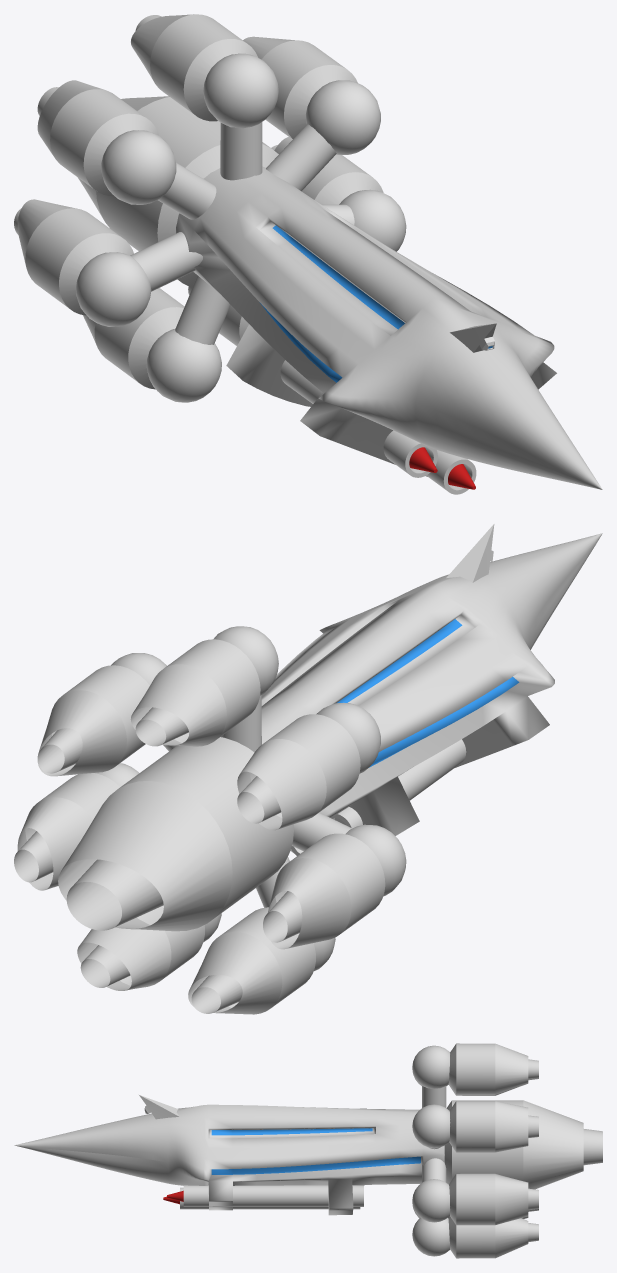
File: interceptor.fbx
3 views of the same model, one above another, from view 1: azimuth 30°, elevation 25°; view 2: azimuth 150°, elevation 25°; view 3: azimuth 270°, elevation 25° (orthographic). The views are drawn at different scales.
Parts seen in each view (by area): view 1: body, big_engine, Tube_1_2, Tube_7, Tube_2_2, Tube_6, Sphere_1, Sphere_7, Sphere_2, Sphere_6, Sphere_3, Tube_3 (+11 smaller); view 2: body, big_engine, Tube_1_2, Tube_7, Tube_2_2, Tube_6, Tube_3, Tube_5, Tube_4, Tube_2, Sphere_1, Sphere_7 (+5 smaller); view 3: body, big_engine, Tube_6, Tube_5, Tube_7, Tube_1, Tube_4, Sphere_6, Sphere_5, Sphere_7, Sphere_4, Pyramid (+3 smaller).
Boxes of the visible parts, x1,y1,x2,y2 form: body: (176,166,602,489); big_engine: (78,96,278,287); Tube_1_2: (37,80,158,196); Tube_7: (131,14,257,121); Tube_2_2: (14,199,133,315); Tube_6: (243,36,357,139); Sphere_1: (101,130,176,204); Sphere_7: (203,53,278,128); Sphere_2: (76,252,151,326); Sphere_6: (306,80,380,154); Sphere_3: (146,329,221,402); Tube_3: (83,288,184,389); body: (261,533,602,852); big_engine: (58,737,293,931); Tube_1_2: (237,714,360,830); Tube_7: (130,639,260,746); Tube_2_2: (263,833,385,949); Tube_6: (37,665,149,776); Tube_3: (188,907,315,1014); Tube_5: (14,773,119,890); Tube_4: (77,925,204,990); Tube_2: (331,739,466,828); Sphere_1: (316,702,380,773); Sphere_7: (213,626,278,695); body: (14,1104,444,1215); big_engine: (444,1100,602,1189); Tube_6: (449,1101,538,1152); Tube_5: (449,1173,538,1225); Tube_7: (448,1043,538,1094); Tube_1: (183,1185,363,1206); Tube_4: (448,1216,538,1258); Sphere_6: (412,1104,450,1148); Sphere_5: (412,1179,450,1222); Sphere_7: (412,1045,449,1088); Sphere_4: (412,1217,449,1256); Pyramid: (139,1095,179,1119).
Size of the model in its own units: 559 by 548 by 1504.
